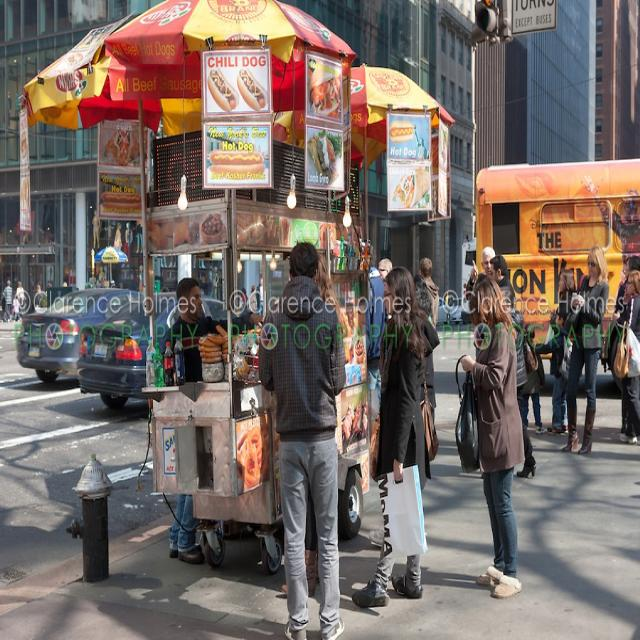body: (256, 240, 348, 639), (349, 264, 441, 609), (159, 276, 266, 566), (453, 273, 527, 601), (560, 242, 610, 458), (498, 283, 540, 480), (613, 254, 639, 443), (532, 306, 569, 436), (612, 269, 639, 446), (89, 208, 144, 290), (365, 248, 385, 446), (465, 246, 499, 356), (370, 253, 402, 350), (521, 323, 548, 436), (0, 278, 50, 324), (418, 256, 440, 329), (489, 254, 517, 311), (554, 266, 576, 330), (411, 273, 437, 324), (408, 123, 431, 165), (1, 280, 13, 324), (14, 280, 25, 317), (10, 294, 22, 324), (61, 280, 69, 287)
